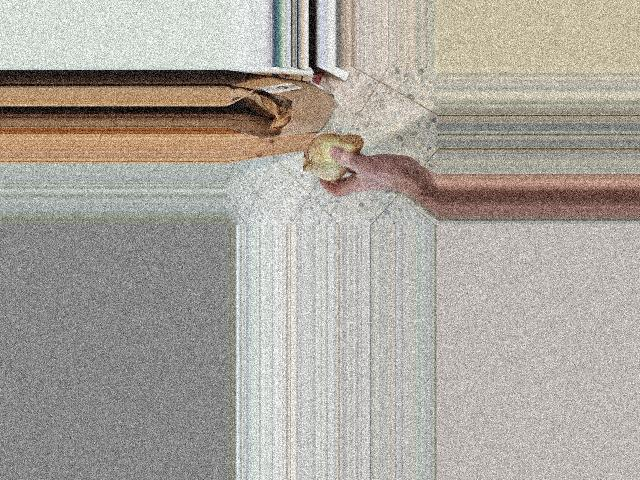onion: (302, 130, 365, 185)
